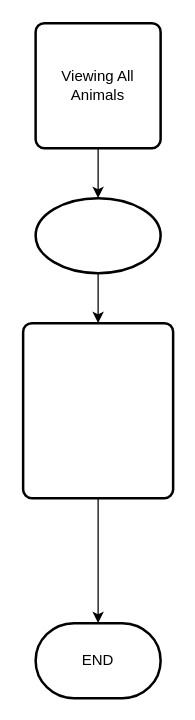
The diagram is 195 pixels wide and 720 high, and some of its shapes have lost their labels. Each missing label, with the centre of its shape:
"Iterate through the list and print each object of the list line by line" belongs at (x=97, y=410).
"Start" belongs at (x=97, y=235).
